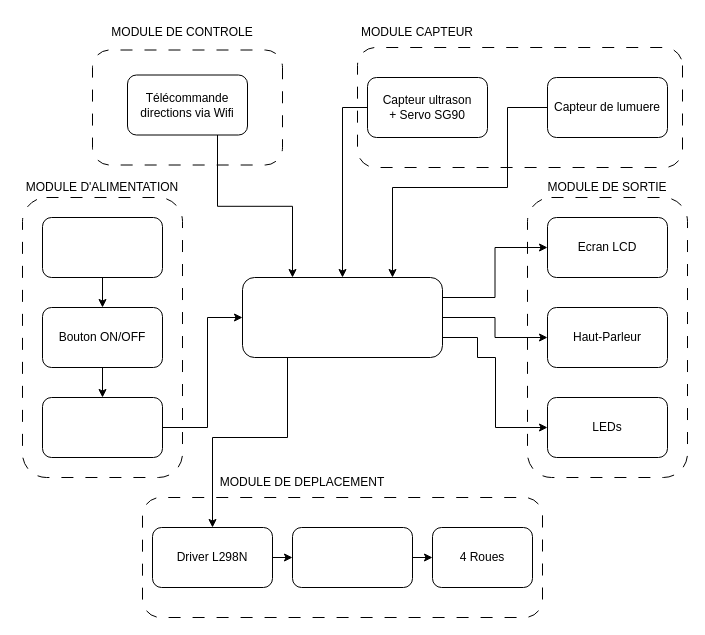
This 705x635 diagram has some shape labels left out. The centre of each missing label's shape, as x and y in pixels:
"2 Moteurs DC" belongs at point (352, 557).
"Batterie" belongs at point (102, 247).
"Microcontroleur" belongs at point (342, 317).
"Regulateur 5V" belongs at point (102, 427).
